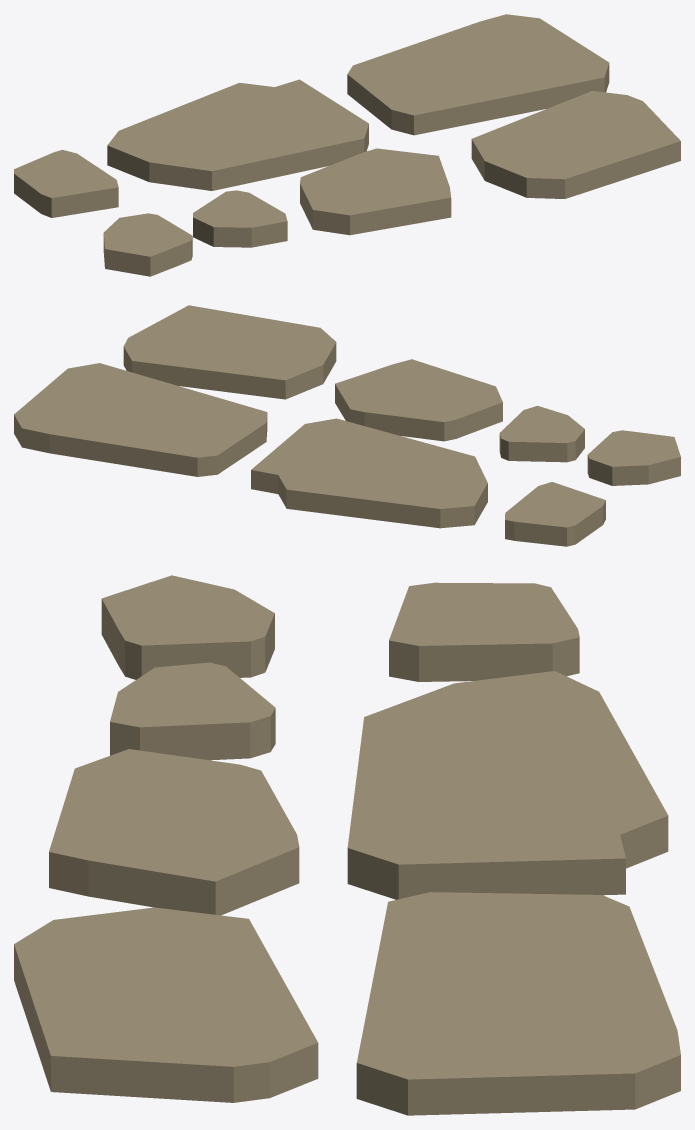
File: 石板路1.fbx
3 views of the same model, one above another, from view 1: azimuth 30°, elevation 25°; view 2: azimuth 150°, elevation 25°; view 3: azimuth 270°, elevation 25° (orthographic). The views are drawn at different scales.
Parts seen in each view (by area): view 1: Tile6; view 2: Tile6; view 3: Tile6.
Boxes of the visible parts, left/top/right/bottom form: Tile6: left=14, top=14, right=680, bottom=276; Tile6: left=14, top=305, right=680, bottom=546; Tile6: left=14, top=575, right=680, bottom=1115.
Size of the model in its own units: 253 by 8.44 by 141.
